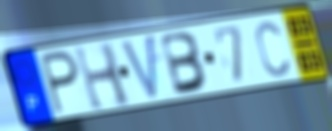7: (212, 24, 246, 85)
B: (158, 30, 210, 98)
C: (253, 19, 291, 79)
H: (71, 40, 134, 114)
P: (38, 48, 81, 117)
V: (118, 31, 159, 104)
